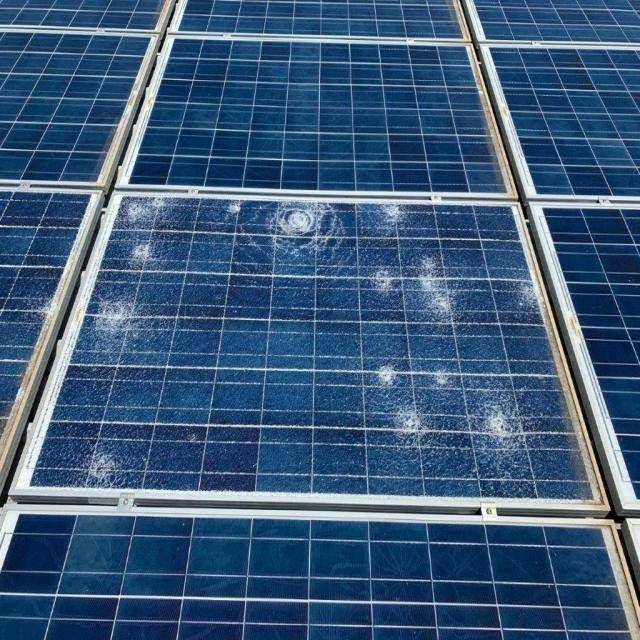physical damage: (24, 192, 599, 504)
